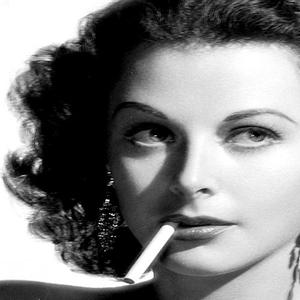cigarette: (125, 219, 178, 286)
